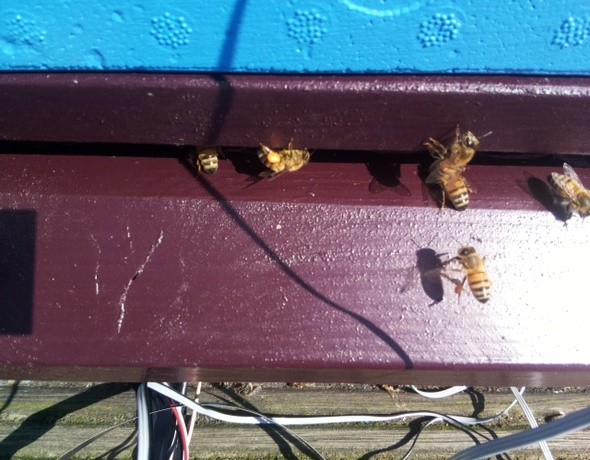no_pollen: (425, 130, 481, 186), (429, 155, 474, 214), (545, 170, 590, 221), (193, 144, 222, 177)
pollen: (443, 238, 492, 305), (255, 141, 311, 174)
